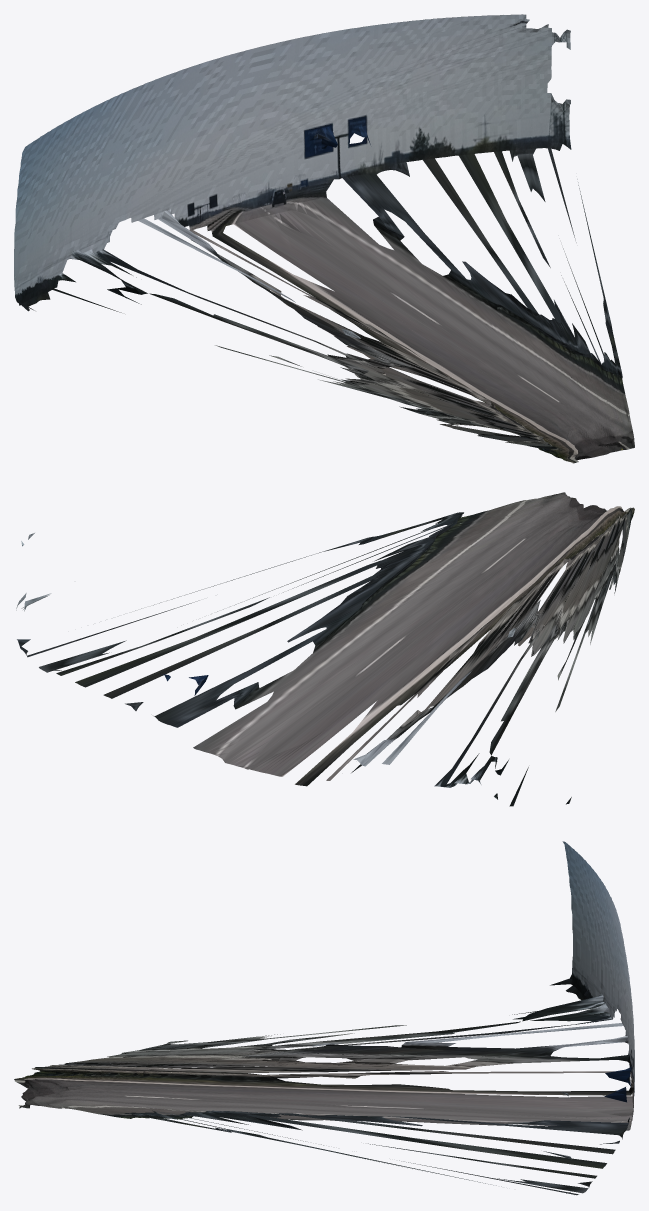
3 renders of one model, top to bottom at view 1: azimuth 30°, elevation 25°; view 2: azimuth 150°, elevation 25°; view 3: azimuth 270°, elevation 25°, orthographic. The views are drawn at different scales.
Visible parts, largest first — view 1: defaultobject; view 2: defaultobject; view 3: defaultobject.
Part boxes in pixels (x1=…): defaultobject: x1=14, y1=14, x2=634, y2=463; defaultobject: x1=16, y1=492, x2=634, y2=806; defaultobject: x1=14, y1=841, x2=634, y2=1195.
Size of the model in its own units: 41.12 by 12.84 by 44.69.
Materials: 1 (1 with a texture image).
